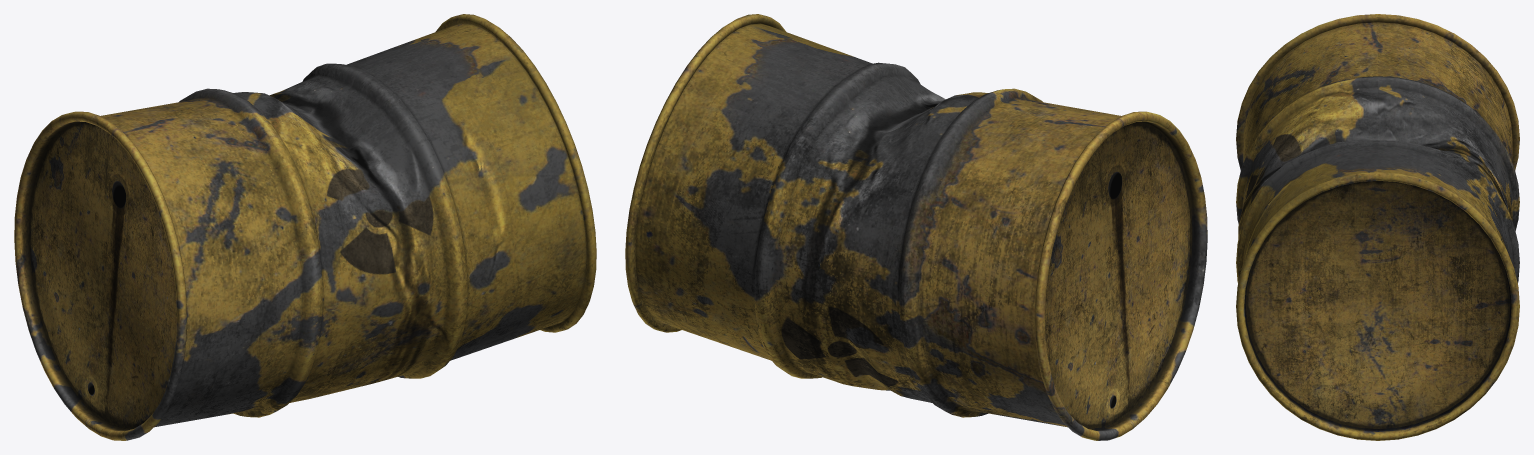
Rendered from barrel_toxic_04.FBX.
The picture shows the model from 3 angles, left to right: view 1: azimuth 30°, elevation 25°; view 2: azimuth 150°, elevation 25°; view 3: azimuth 270°, elevation 25°; orthographic projection. The views are drawn at different scales.
Parts seen in each view (by area): view 1: barrel_hollow_03_invert; view 2: barrel_hollow_03_invert; view 3: barrel_hollow_03_invert.
Part boxes in pixels (x1,y1,x2,y2): barrel_hollow_03_invert: (14,14,596,440); barrel_hollow_03_invert: (625,14,1207,440); barrel_hollow_03_invert: (1236,14,1519,440).
Bounding box in the file's own units: 0.9009 × 0.6134 × 0.59.
